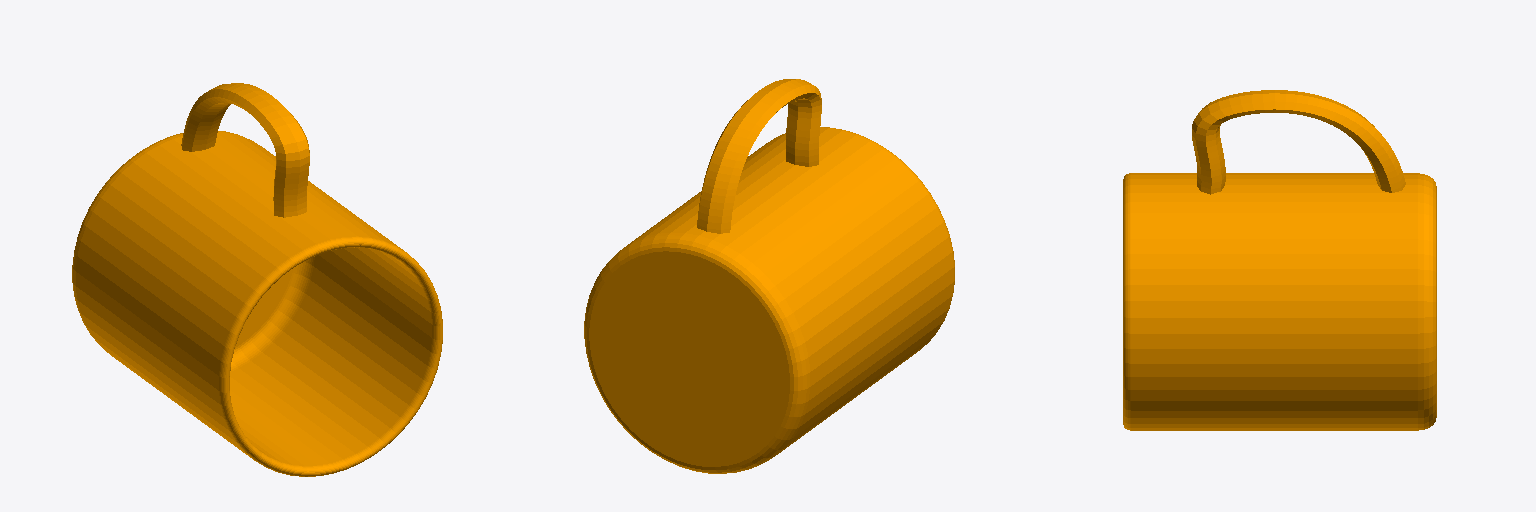
The picture shows the model from 3 angles: view 1: azimuth 30°, elevation 25°; view 2: azimuth 150°, elevation 25°; view 3: azimuth 270°, elevation 25°; orthographic projection.
Visible parts, largest first — view 1: sweep2; view 2: sweep2; view 3: sweep2.
Part boxes in pixels (x1,y1,x2,y2): sweep2: (72, 83, 442, 476); sweep2: (584, 79, 954, 473); sweep2: (1123, 90, 1436, 430).
Size of the model in its own units: 0.1245 by 0.1739 by 0.1515.